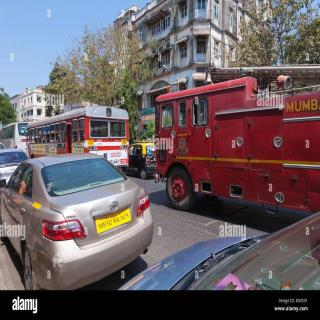Fire_truck: (153, 67, 320, 215)
